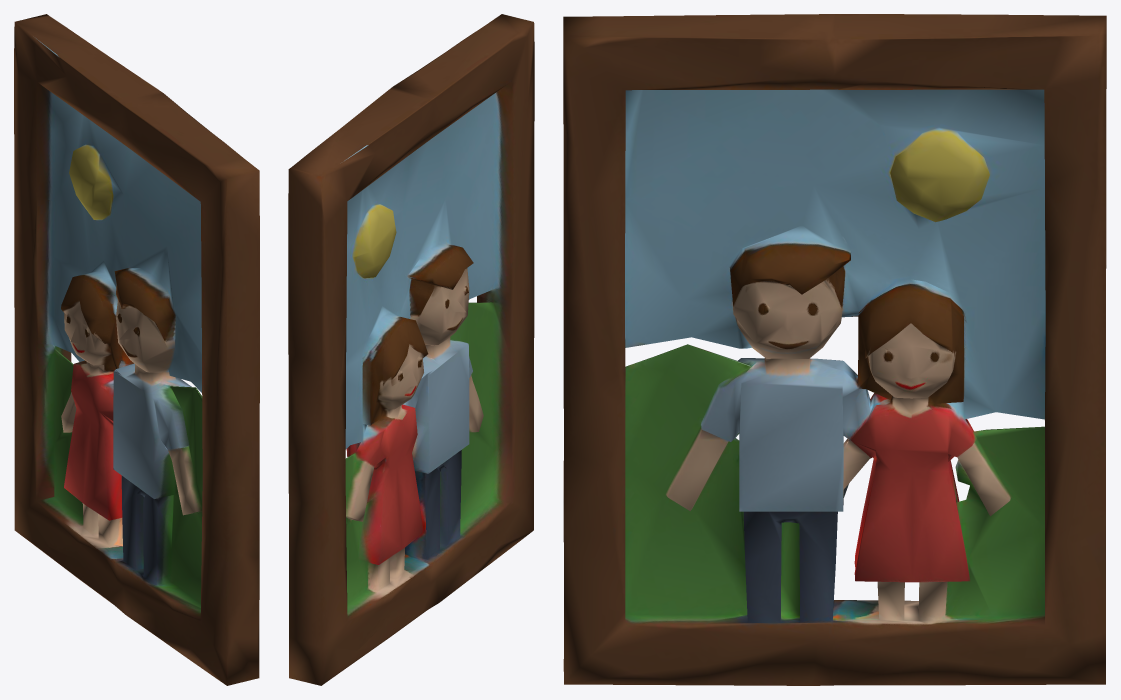
File: CUADROPAREJA.fbx
The picture shows the model from 3 angles, left to right: view 1: azimuth 30°, elevation 25°; view 2: azimuth 150°, elevation 25°; view 3: azimuth 270°, elevation 25°; orthographic projection. The views are drawn at different scales.
Parts seen in each view (by area): view 1: tripo_node_62620652; view 2: tripo_node_62620652; view 3: tripo_node_62620652.
Boxes of the visible parts, x1,y1,x2,y2 form: tripo_node_62620652: (14, 14, 259, 685); tripo_node_62620652: (288, 14, 534, 685); tripo_node_62620652: (563, 14, 1106, 685).
Size of the model in its own units: 0.1501 by 0.9999 by 0.7592.
Materials: 1 (1 with a texture image).
